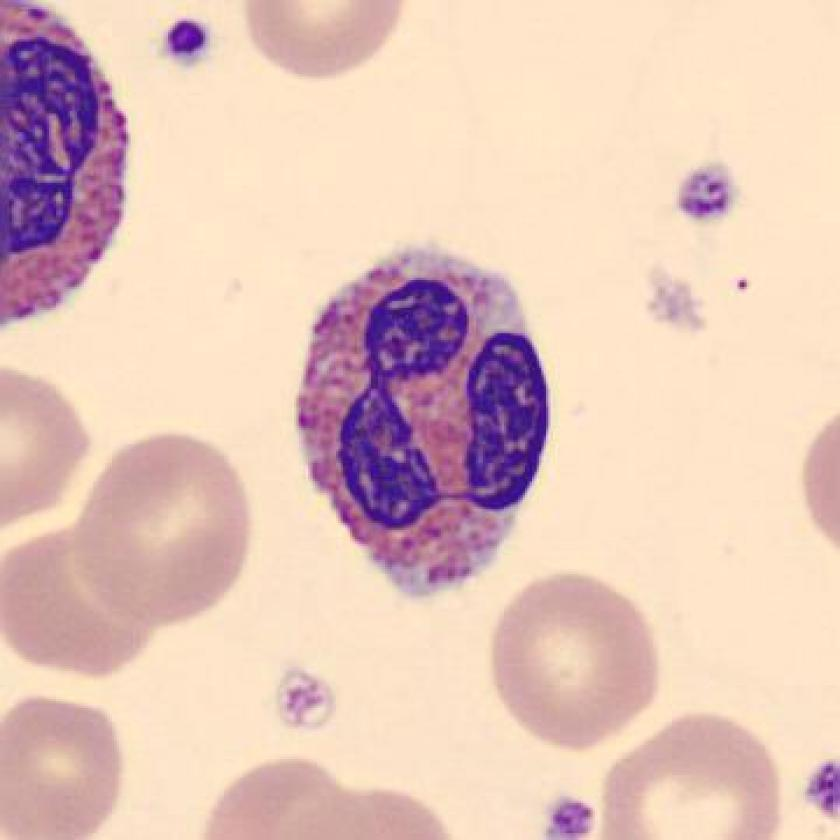eosinophil: (286, 230, 561, 607)
